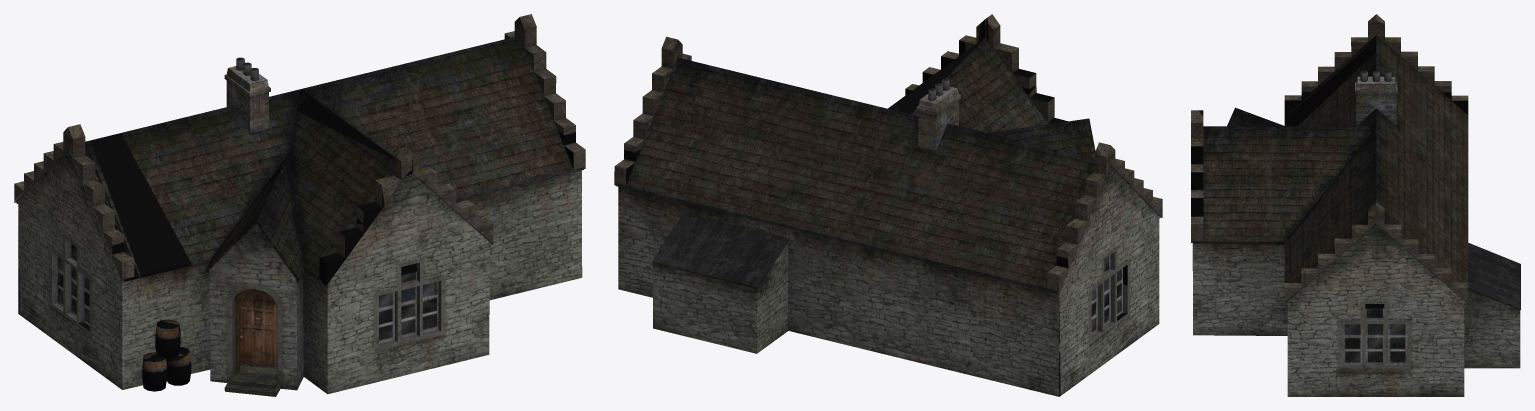
Rendered from model_refined.gltf.
The picture shows the model from 3 angles, left to right: view 1: azimuth 30°, elevation 25°; view 2: azimuth 150°, elevation 25°; view 3: azimuth 270°, elevation 25°; orthographic projection. The views are drawn at different scales.
Parts seen in each view (by area): view 1: House; view 2: House; view 3: House.
Boxes of the visible parts, x1,y1,x2,y2 form: House: [14, 14, 585, 396]; House: [614, 14, 1162, 396]; House: [1191, 14, 1520, 396].
Bounding box in the file's own units: 89.55 × 45.1 × 64.93.
1 material, 1 textured.
